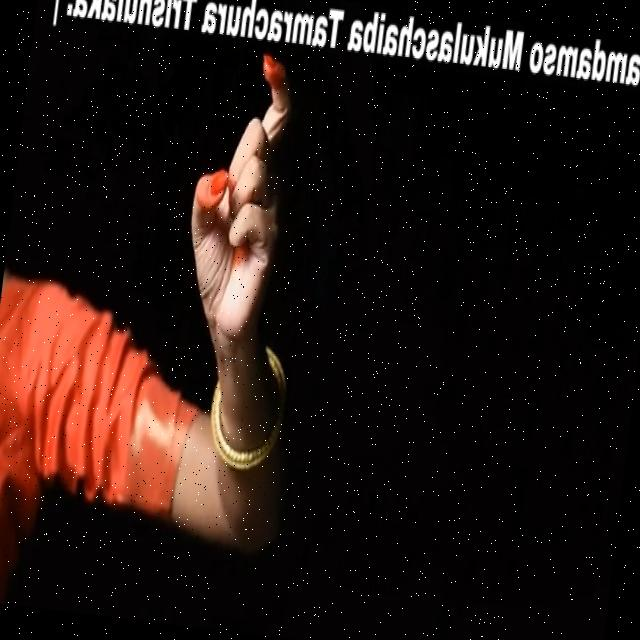Tamrachuda: (162, 39, 313, 366)
bangle: (199, 338, 298, 485)
text: (46, 0, 640, 106)
